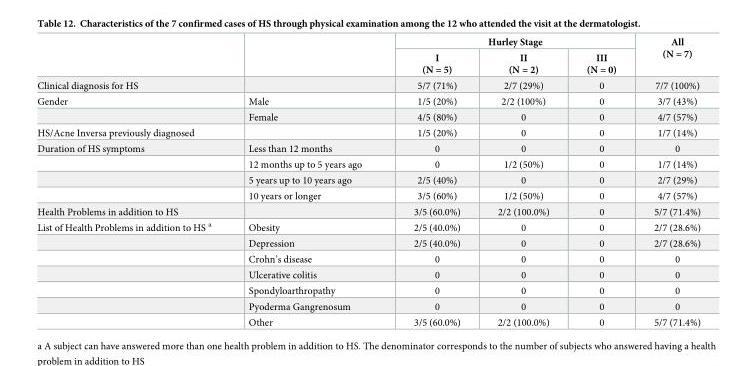table: (36, 36, 700, 327)
table column: (36, 36, 229, 327), (229, 36, 387, 327), (387, 36, 478, 327), (478, 36, 567, 327), (567, 36, 634, 327), (634, 36, 700, 327)
table column header: (36, 36, 700, 77)
table row: (36, 49, 700, 77), (36, 218, 700, 235), (36, 77, 700, 93), (36, 93, 700, 109), (36, 124, 700, 140), (36, 140, 700, 156), (36, 156, 700, 172), (36, 187, 700, 203), (36, 235, 700, 251), (36, 266, 700, 282), (36, 282, 700, 298), (36, 298, 700, 314), (36, 109, 700, 124), (36, 172, 700, 187), (36, 203, 700, 218), (36, 251, 700, 266), (36, 36, 700, 49), (36, 314, 700, 327)
table spanning cell: (36, 218, 229, 327), (36, 140, 229, 203), (36, 93, 229, 124), (387, 36, 634, 49), (634, 36, 700, 77)
